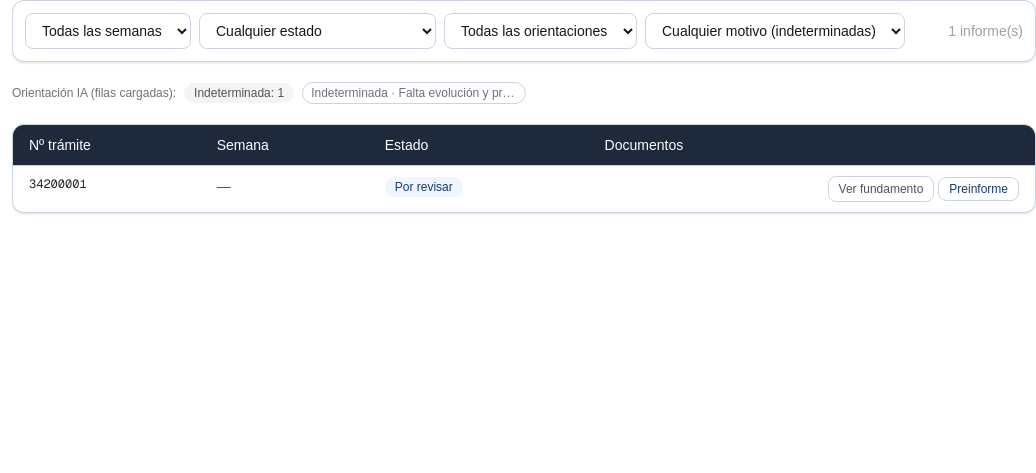
Test: Informes · la tabla sólo lleva lo operacional › el médico y la versión siguen alcanzables en el fundamento
expect the text "34200001" is shown: met, box [13, 166, 201, 212]
Click the button "Ver fundamento": (881, 189) [828, 176, 934, 202]
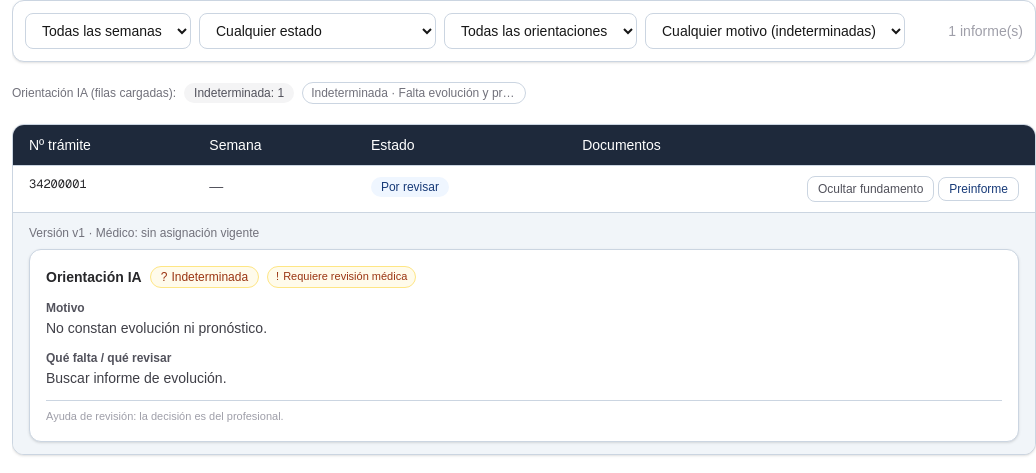
expect the text "Versión v1 · Médico: sin asignación vigente" is shown: met, box [29, 226, 259, 240]
